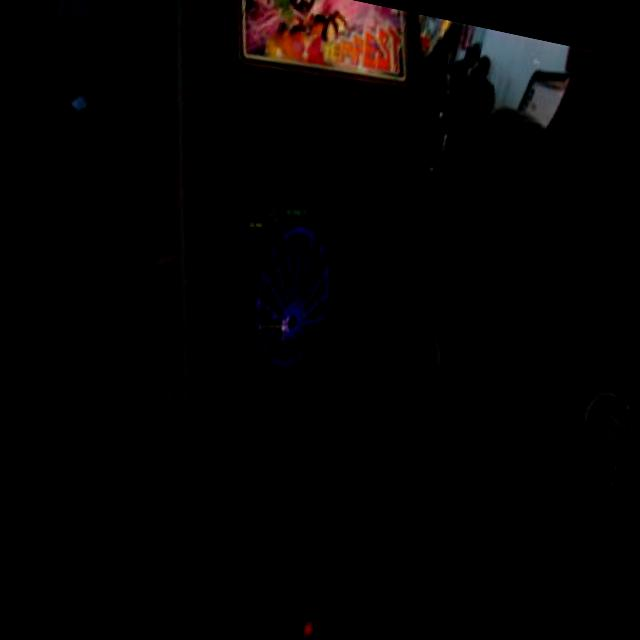Person: (230, 47, 640, 640)
